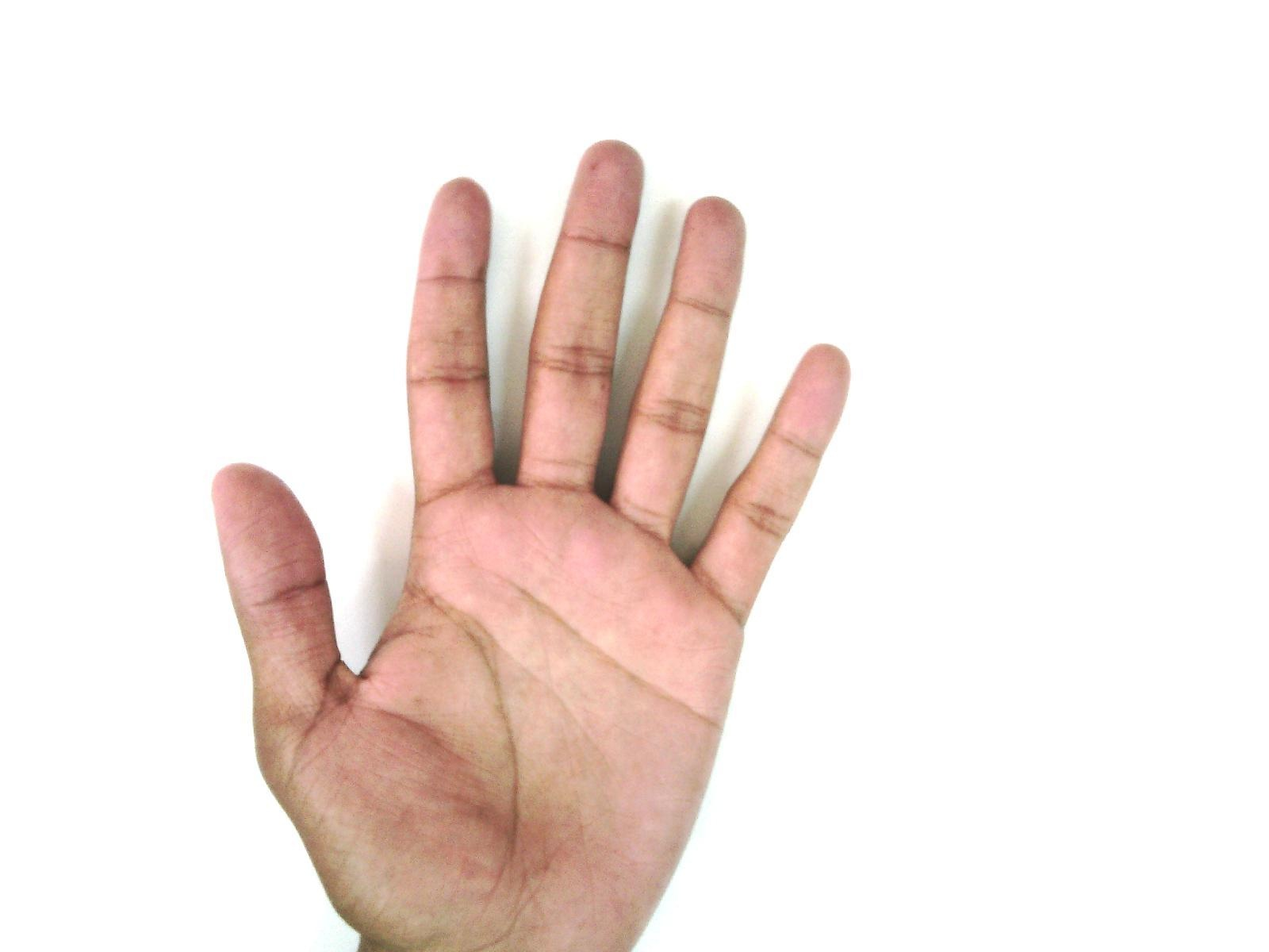open_palm: (209, 138, 854, 951)
